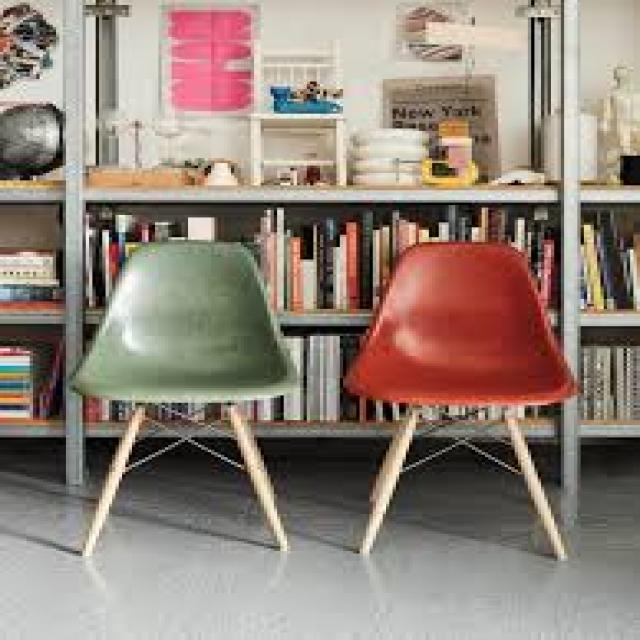chair: (294, 203, 640, 586), (48, 223, 334, 577)
